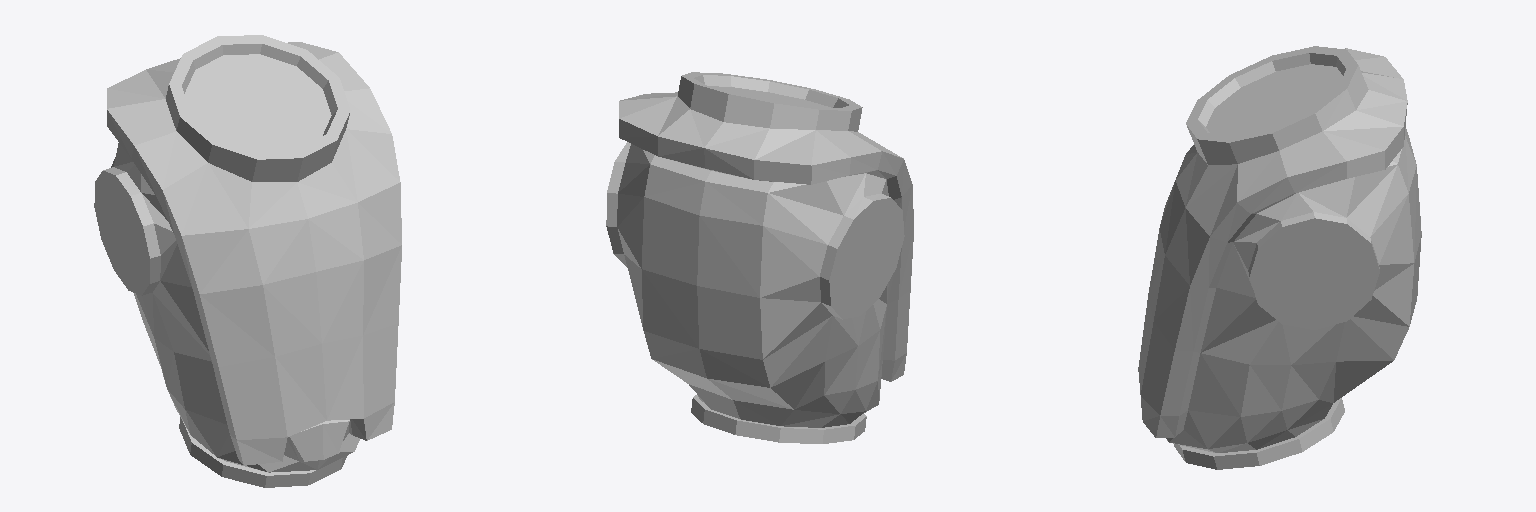
Rendered from Kyle_Torso_v2.obj.
3 renders of one model, left to right at view 1: azimuth 30°, elevation 25°; view 2: azimuth 150°, elevation 25°; view 3: azimuth 270°, elevation 25°, orthographic.
Visible parts, largest first — view 1: Robot2; view 2: Robot2; view 3: Robot2.
Boxes of the visible parts, x1=… form: Robot2: x1=94, y1=35, x2=401, y2=487; Robot2: x1=606, y1=72, x2=913, y2=443; Robot2: x1=1138, y1=46, x2=1421, y2=469.
Bounding box in the file's own units: 3.69 × 5.41 × 3.64.